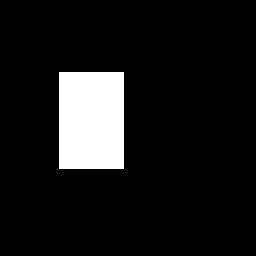person: (59, 72, 123, 168)
